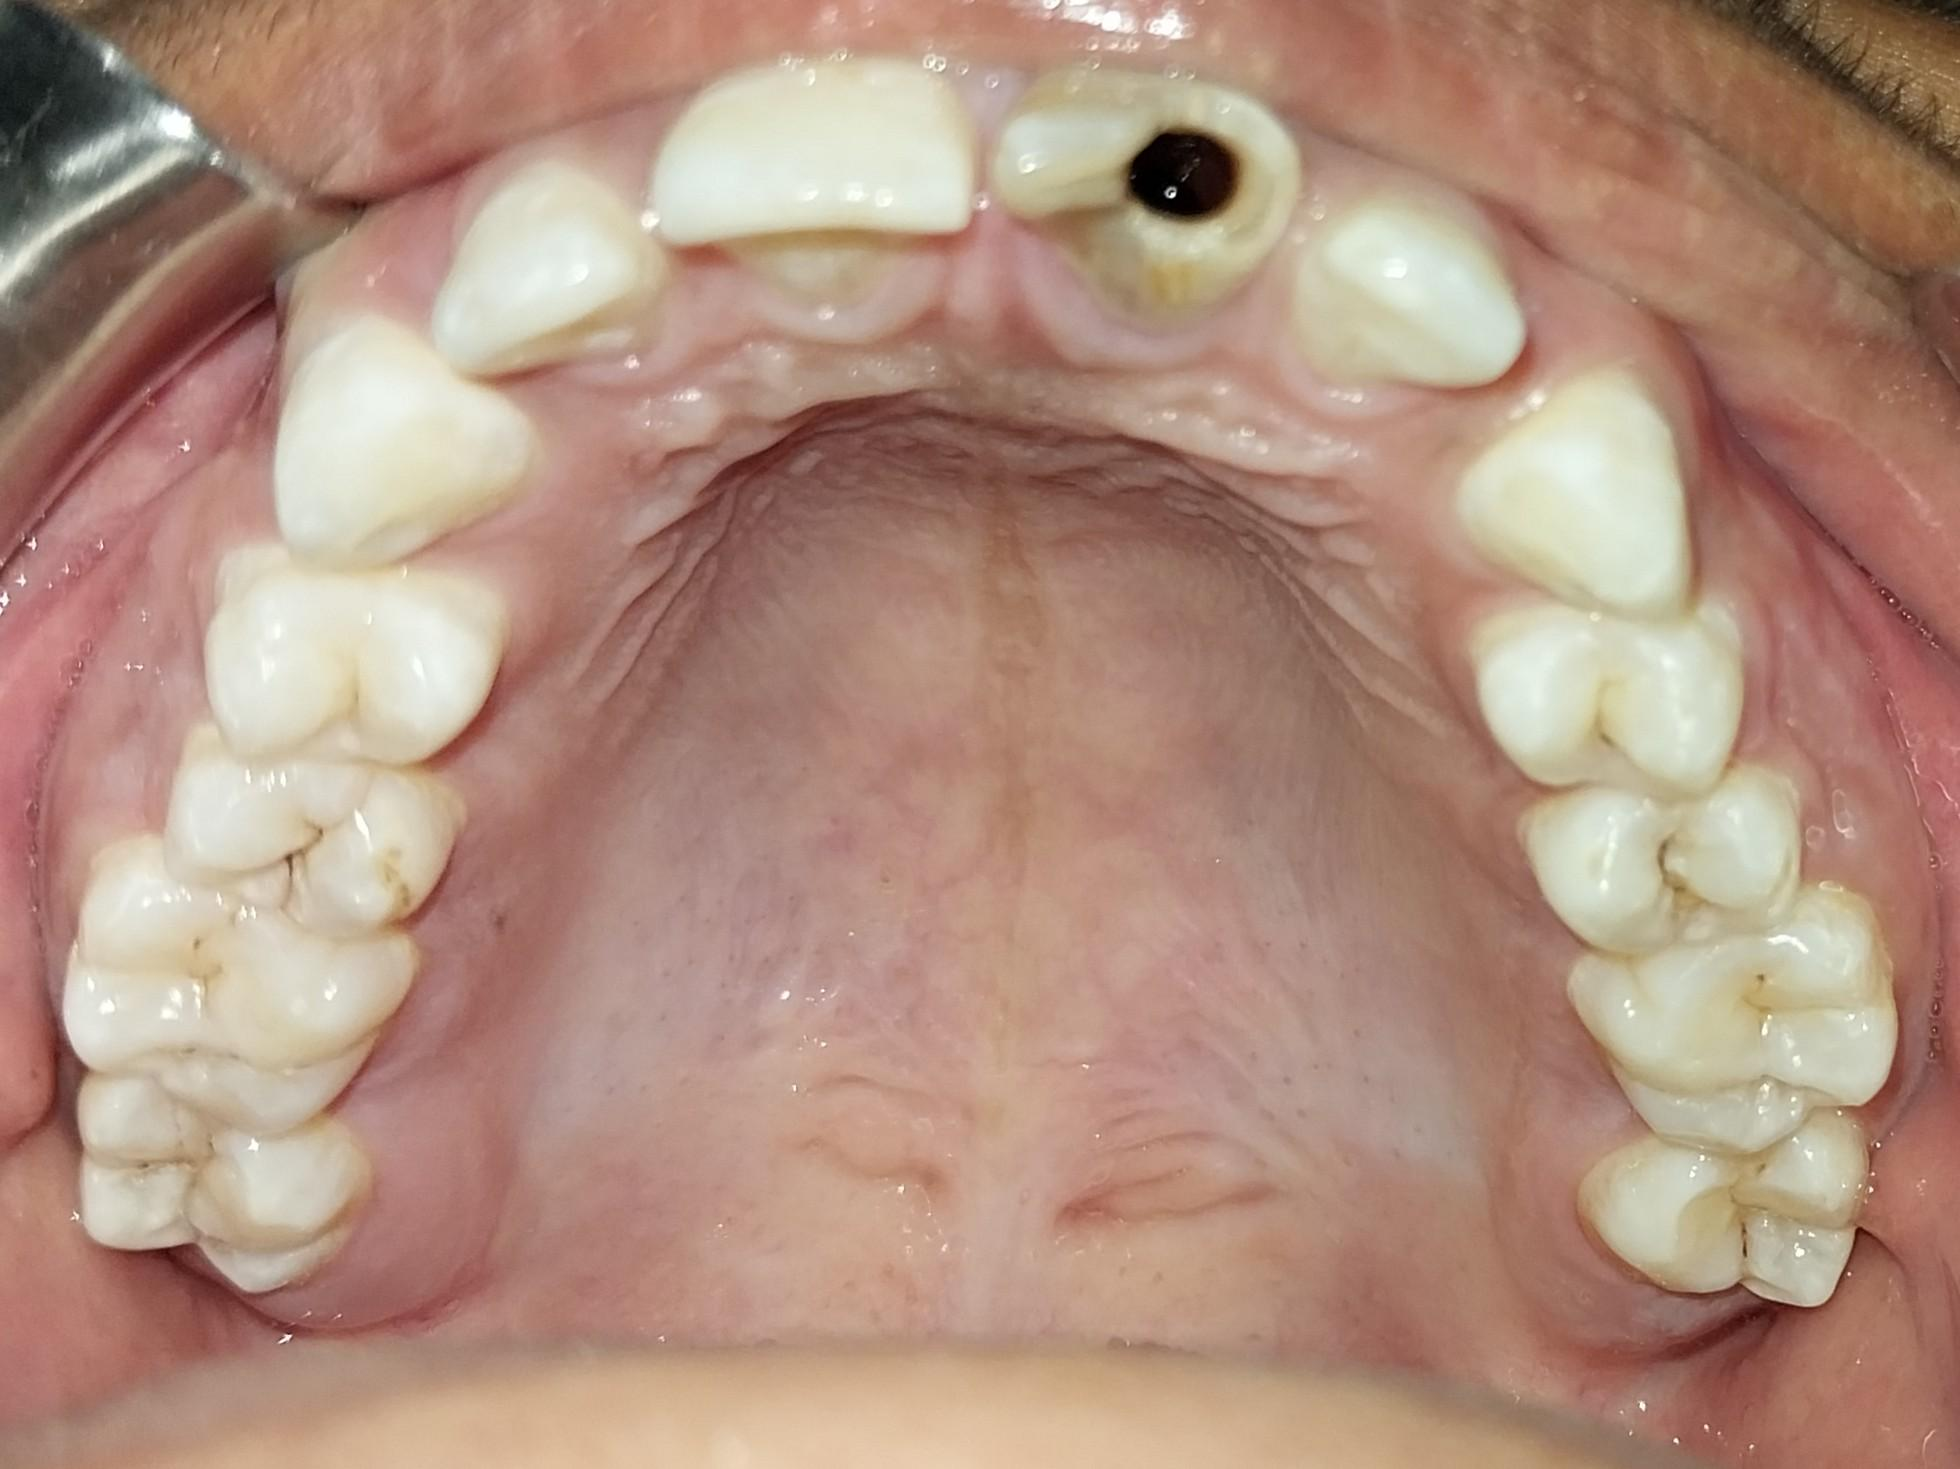D: (979, 64, 1302, 347), (155, 724, 452, 939), (1580, 1109, 1880, 1296), (1475, 604, 1752, 797), (1522, 799, 1817, 952)
